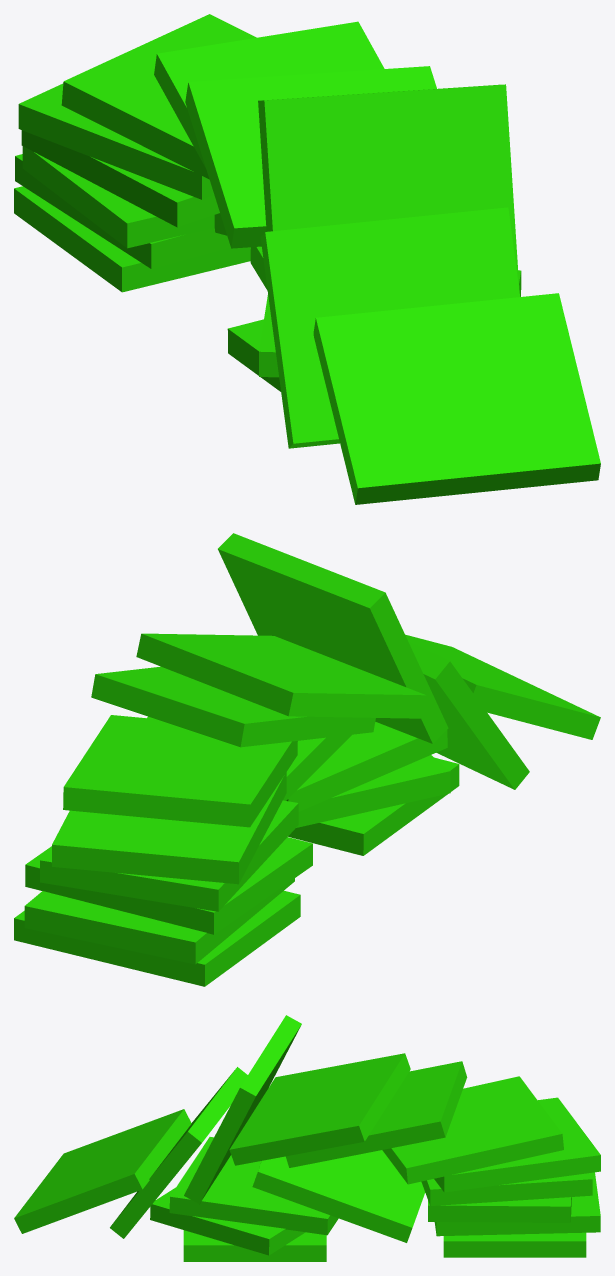
File: Pallet_Pile_03_Lod1.fbx
3 views of the same model, one above another, from view 1: azimuth 30°, elevation 25°; view 2: azimuth 150°, elevation 25°; view 3: azimuth 270°, elevation 25° (orthographic). The views are drawn at different scales.
Parts seen in each view (by area): view 1: Pallet_Pile_03_Lod1; view 2: Pallet_Pile_03_Lod1; view 3: Pallet_Pile_03_Lod1.
Part boxes in pixels (x1,y1,x2,y2): Pallet_Pile_03_Lod1: [14, 14, 600, 504]; Pallet_Pile_03_Lod1: [14, 533, 600, 986]; Pallet_Pile_03_Lod1: [14, 1015, 600, 1261].
Size of the model in its own units: 207 by 170 by 498.
